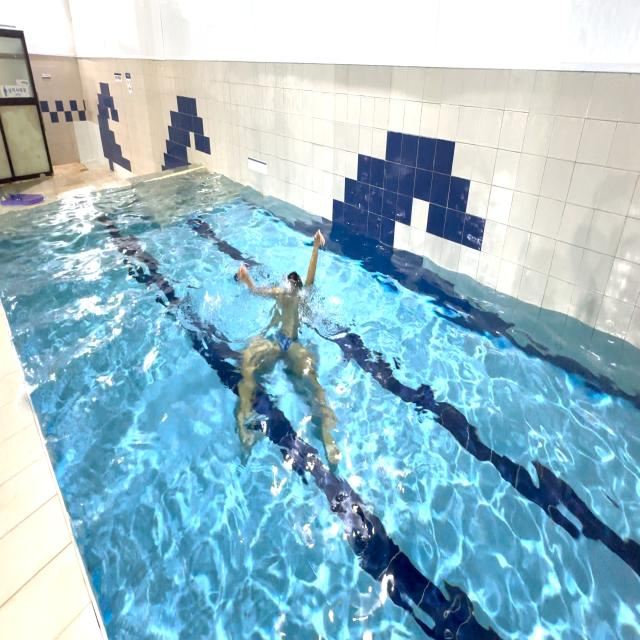Drowning: (226, 223, 340, 480)
